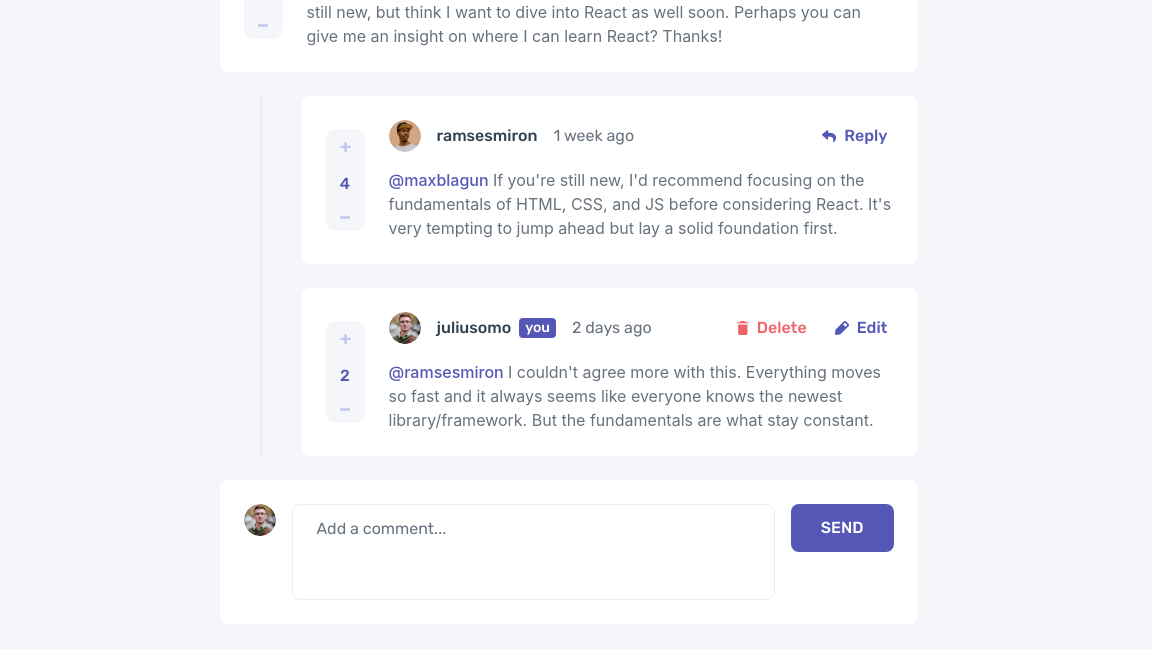
it: App › deletes own comment after confirming
(page scrolled)
Click the button "Delete" at (772, 328), box [731,312,813,344]
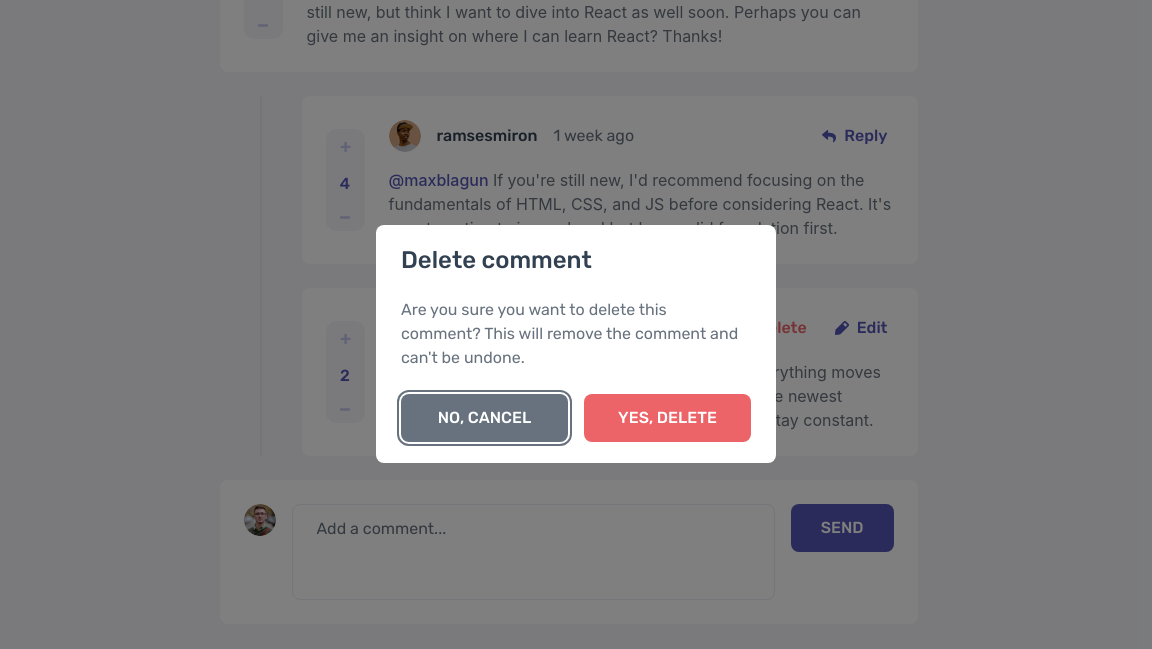
Click the button "Yes, delete" at (668, 418), box [584,394,751,442]
(page scrolled)
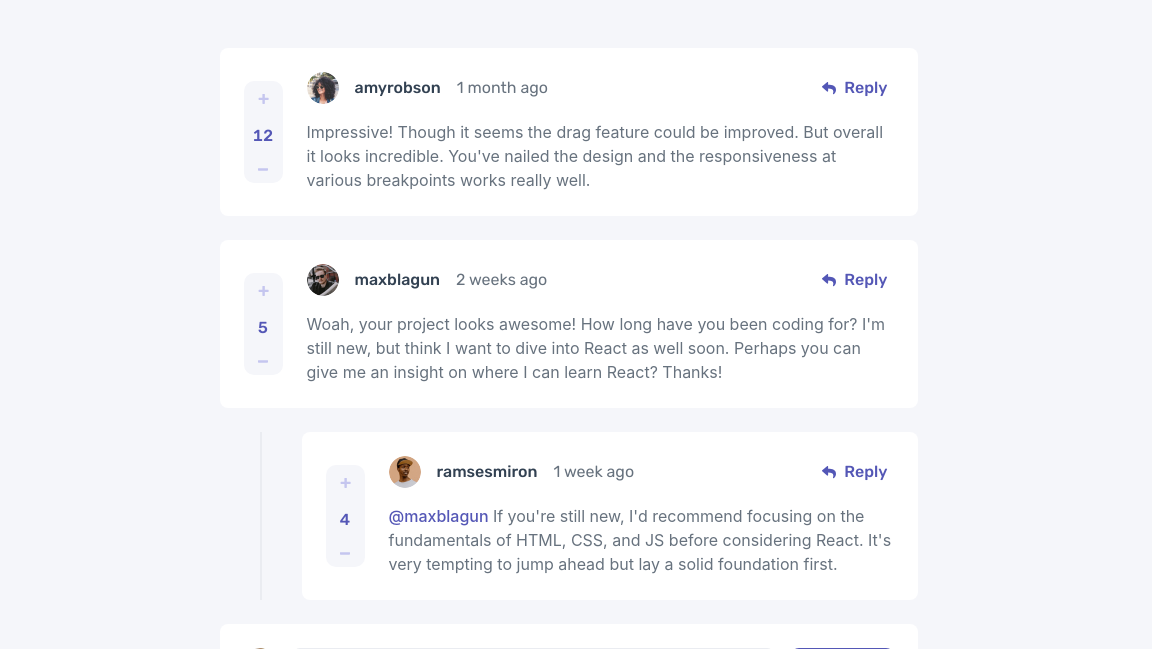
Expected: the text "I couldn't agree more" is gone
